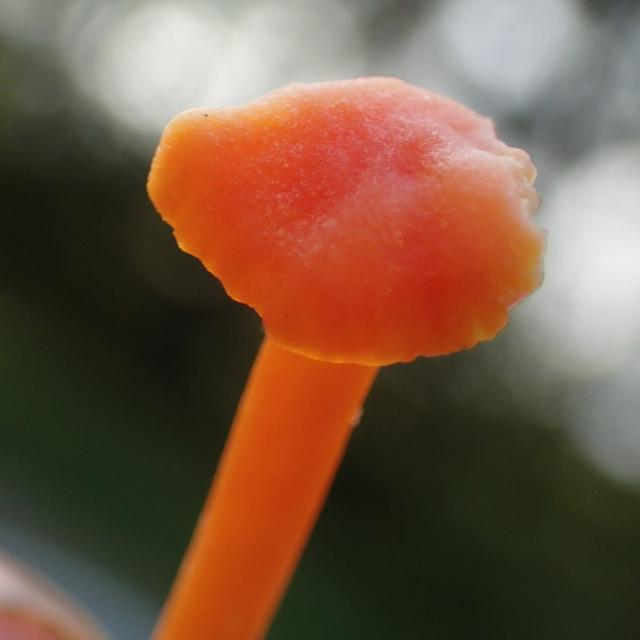Cantharellus cibarius: (146, 74, 548, 640)
